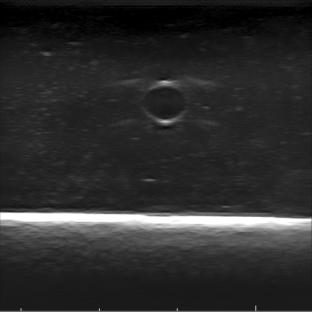vessel: (139, 79, 188, 125)
